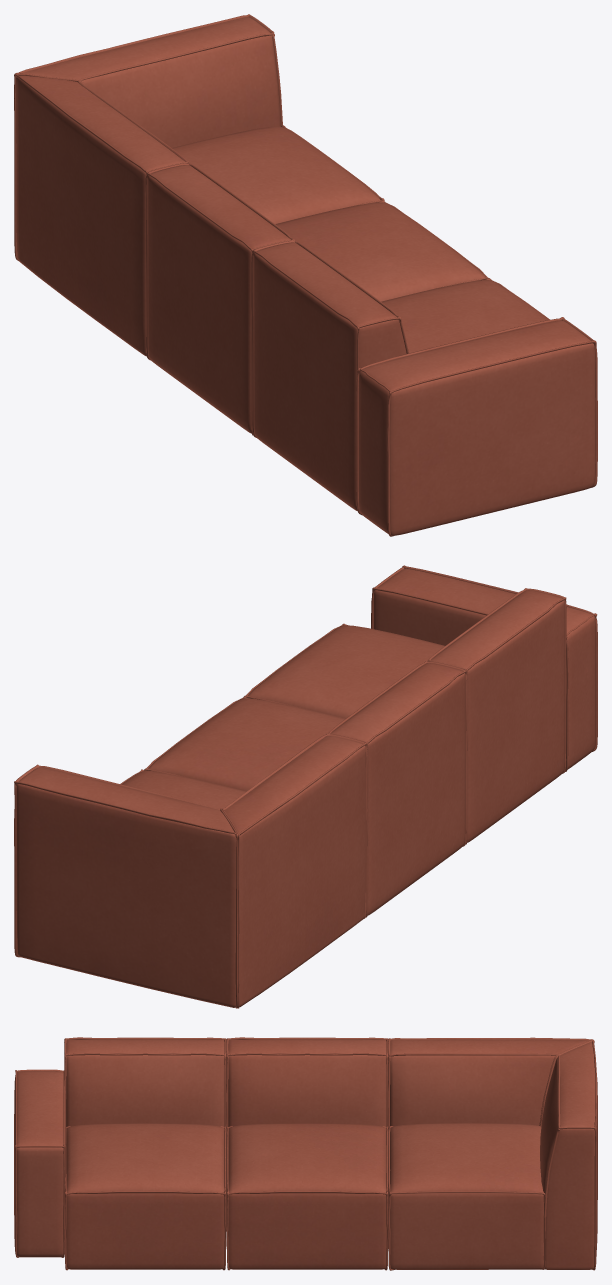
File: corner+sofa+brick.glb
3 renders of one model, top to bottom at view 1: azimuth 30°, elevation 25°; view 2: azimuth 150°, elevation 25°; view 3: azimuth 270°, elevation 25°, orthographic. The views are drawn at different scales.
Parts seen in each view (by area): view 1: 0_Object019.002, 0_Object012.001_0_Object012.001, 0_Object017.002, 0_Object022.001_0_Object022.001, 0_Object004.001_0_Object004.001, 0_Object016.002, 0_Object023.002, 0_Object018.002, Object008.001_Object008.001, 0_Group002.001_0_Group002.001, 001.001_001.001, Object016.001_Object016.001 (+2 smaller); view 2: 0_Object004.001_0_Object004.001, 0_Object012.001_0_Object012.001, 0_Object017.002, 0_Object022.001_0_Object022.001, 0_Object019.002, 0_Object018.002, 0_Object016.002, 0_Object023.002, Object008.001_Object008.001, 0_Group002.001_0_Group002.001, Object016.001_Object016.001, 001.001_001.001 (+2 smaller); view 3: 0_Object016.002, 0_Object018.002, 0_Object023.002, 0_Object012.001_0_Object012.001, 0_Object017.002, 0_Object022.001_0_Object022.001, 0_Object004.001_0_Object004.001, 0_Object019.002, 001.001_001.001, Object016.001_Object016.001, 0_Group004.001_0_Group004.001, 0_Group002.001_0_Group002.001 (+5 smaller).
Part boxes in pixels (x1,y1,x2,y2): 0_Object019.002: [358, 320, 595, 535]; 0_Object012.001_0_Object012.001: [15, 75, 185, 356]; 0_Object017.002: [253, 242, 408, 510]; 0_Object022.001_0_Object022.001: [147, 165, 290, 433]; 0_Object004.001_0_Object004.001: [23, 17, 280, 147]; 0_Object016.002: [275, 202, 485, 301]; 0_Object023.002: [172, 126, 380, 224]; 0_Object018.002: [381, 280, 548, 353]; Object008.001_Object008.001: [356, 317, 597, 536]; 0_Group002.001_0_Group002.001: [18, 14, 282, 126]; 001.001_001.001: [146, 163, 294, 435]; Object016.001_Object016.001: [252, 240, 408, 437]; 0_Object004.001_0_Object004.001: [16, 767, 236, 1007]; 0_Object012.001_0_Object012.001: [224, 736, 365, 1006]; 0_Object017.002: [431, 590, 565, 842]; 0_Object022.001_0_Object022.001: [330, 663, 465, 915]; 0_Object019.002: [373, 568, 595, 769]; 0_Object018.002: [247, 625, 444, 718]; 0_Object016.002: [148, 698, 345, 791]; 0_Object023.002: [121, 770, 246, 808]; Object008.001_Object008.001: [371, 565, 597, 771]; 0_Group002.001_0_Group002.001: [14, 764, 235, 957]; Object016.001_Object016.001: [427, 588, 566, 844]; 001.001_001.001: [328, 661, 466, 917]; 0_Object016.002: [226, 1123, 388, 1269]; 0_Object018.002: [64, 1123, 226, 1269]; 0_Object023.002: [388, 1123, 543, 1269]; 0_Object012.001_0_Object012.001: [388, 1039, 588, 1129]; 0_Object017.002: [64, 1039, 226, 1166]; 0_Object022.001_0_Object022.001: [226, 1039, 388, 1140]; 0_Object004.001_0_Object004.001: [540, 1042, 597, 1269]; 0_Object019.002: [14, 1071, 66, 1257]; 001.001_001.001: [226, 1037, 388, 1144]; Object016.001_Object016.001: [64, 1037, 226, 1132]; 0_Group004.001_0_Group004.001: [388, 1037, 591, 1144]; 0_Group002.001_0_Group002.001: [544, 1041, 596, 1270].
Size of the model in its own units: 0.9343 by 0.7106 by 2.55.
Materials: 1 (1 with a texture image).
